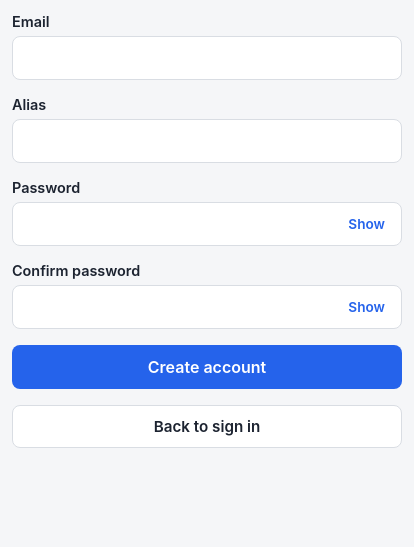
RegistrationForm › shows client validation errors without submitting
The image size is (414, 547).
Click the button "Create account": (207, 367) [12,345,402,389]
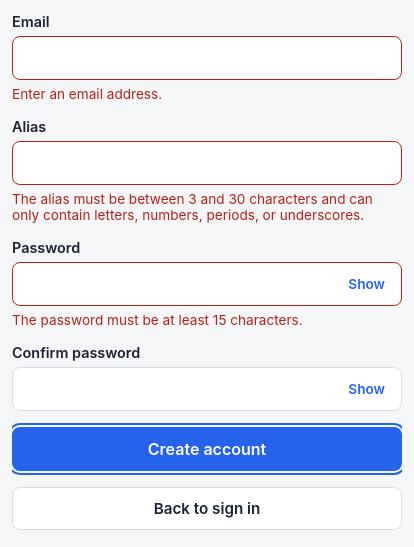
Result: the text "Enter an email address." is shown at [12,86,162,102]
